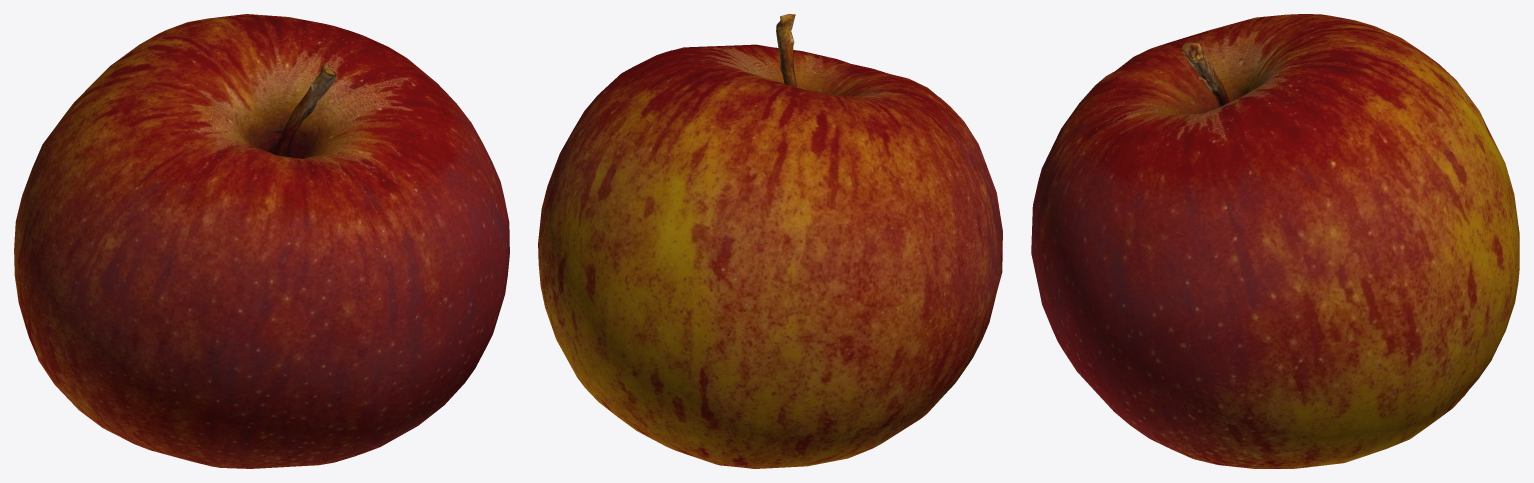
Rendered from food_apple_01.glb.
The picture shows the model from 3 angles, left to right: view 1: azimuth 30°, elevation 25°; view 2: azimuth 150°, elevation 25°; view 3: azimuth 270°, elevation 25°; orthographic projection. The views are drawn at different scales.
Visible parts, largest first — view 1: food_apple_01; view 2: food_apple_01; view 3: food_apple_01.
Part boxes in pixels (x1,y1,x2,y2): food_apple_01: (14,14,509,468); food_apple_01: (538,14,1002,468); food_apple_01: (1031,14,1519,468).
Bounding box in the file's own units: 0.0976 × 0.0854 × 0.0958.
Materials: 1 (1 with a texture image).
